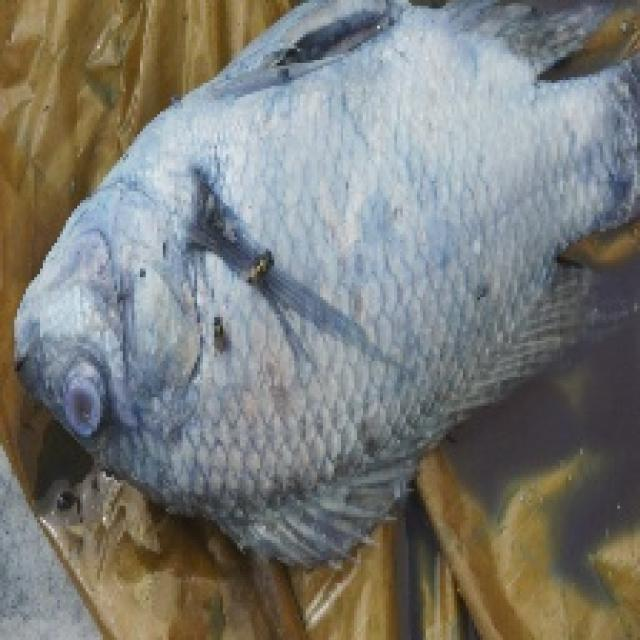Non-Fresh: (6, 55, 606, 541)
